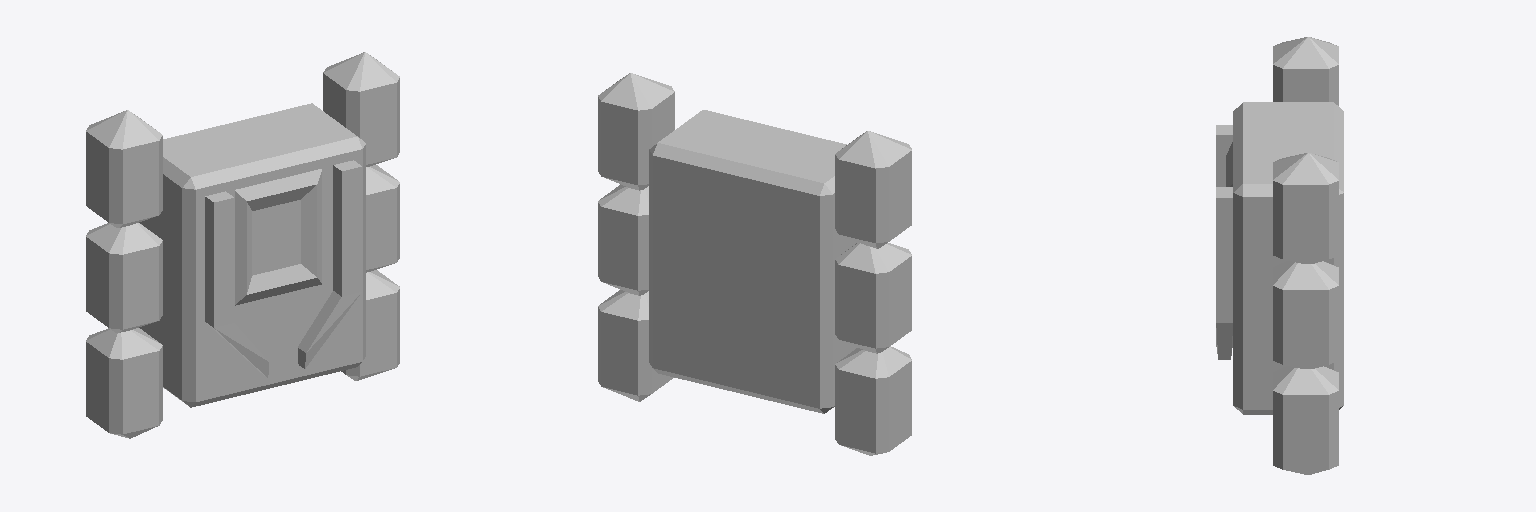
File: android.obj
3 renders of one model, left to right at view 1: azimuth 30°, elevation 25°; view 2: azimuth 150°, elevation 25°; view 3: azimuth 270°, elevation 25°, orthographic.
Visible parts, largest first — view 1: Object.1, Object.10, Object.4, Object.2, Object.3, Object.7, Object.8, Object.9, Object.5, Object.6; view 2: Object.1, Object.4, Object.3, Object.2, Object.7, Object.5, Object.6; view 3: Object.1, Object.7, Object.5, Object.6, Object.4, Object.8, Object.9.
Part boxes in pixels (x1,y1,x2,y2): Object.1: (139, 103, 365, 407); Object.10: (235, 169, 321, 305); Object.4: (86, 110, 162, 227); Object.2: (86, 328, 162, 438); Object.3: (86, 223, 162, 332); Object.7: (323, 52, 399, 166); Object.8: (298, 160, 361, 368); Object.9: (205, 191, 268, 377); Object.5: (341, 270, 399, 380); Object.6: (366, 165, 399, 272); Object.1: (649, 110, 857, 413); Object.4: (835, 131, 911, 248); Object.3: (835, 242, 911, 353); Object.2: (835, 346, 911, 455); Object.7: (598, 73, 674, 190); Object.5: (598, 290, 673, 401); Object.6: (598, 184, 648, 295); Object.1: (1233, 102, 1343, 414); Object.7: (1273, 153, 1338, 263); Object.5: (1273, 366, 1338, 474); Object.6: (1273, 261, 1338, 368); Object.4: (1273, 37, 1338, 105); Object.8: (1216, 187, 1232, 359); Object.9: (1216, 125, 1232, 186).
Size of the model in its own units: 124 by 133 by 47.07.